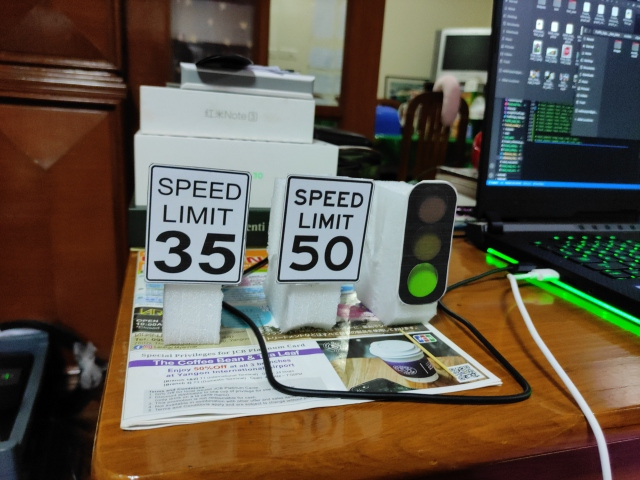Green Traffic Light: (397, 180, 457, 306)
Speed Limit 35: (144, 163, 251, 284)
Speed Limit 50: (276, 176, 375, 284)
